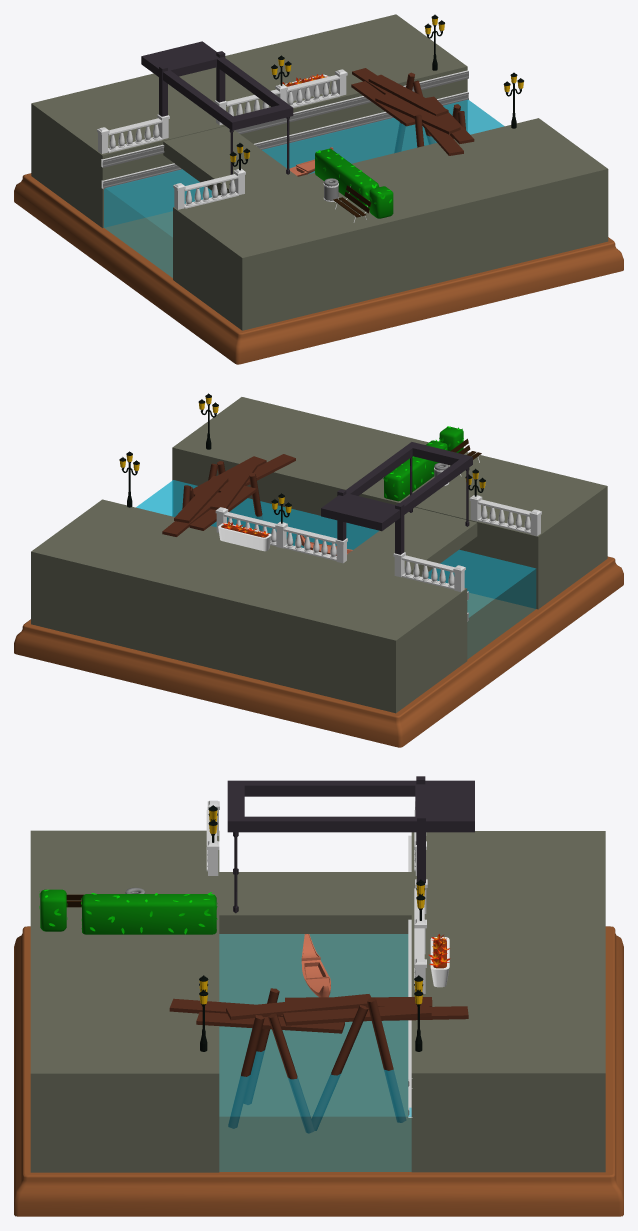
Rendered from Level5.FBX.
The picture shows the model from 3 angles, top to bottom: view 1: azimuth 30°, elevation 25°; view 2: azimuth 150°, elevation 25°; view 3: azimuth 270°, elevation 25°; orthographic projection. The views are drawn at different scales.
Visible parts, largest first — view 1: Box072, Box145, Box081, Box086, Box084, Box080, Box085; view 2: Box072, Box145, Box081, Box086, Box084, Box080, Box085; view 3: Box072, Box081, Box145, Box084, Box086, Cylinder094, Cylinder093, Box083, Cylinder095, Cylinder096, Cylinder092, Box085 (+1 smaller).
Boxes of the visible parts, <box> form: Box072: <box>14,14,623,364</box>; Box145: <box>141,41,293,130</box>; Box081: <box>163,126,297,195</box>; Box086: <box>368,74,448,116</box>; Box084: <box>375,94,460,134</box>; Box080: <box>351,81,414,126</box>; Box085: <box>422,122,463,155</box>; Box072: <box>14,393,623,747</box>; Box145: <box>321,442,472,531</box>; Box081: <box>347,507,477,576</box>; Box086: <box>174,475,228,523</box>; Box084: <box>210,463,257,509</box>; Box080: <box>189,485,256,530</box>; Box085: <box>218,454,295,492</box>; Box072: <box>14,776,623,1216</box>; Box081: <box>219,872,411,933</box>; Box145: <box>227,780,474,832</box>; Box084: <box>226,994,371,1020</box>; Box086: <box>283,1003,431,1025</box>; Cylinder094: <box>311,1005,368,1130</box>; Cylinder093: <box>367,997,406,1122</box>; Box083: <box>196,1012,344,1033</box>; Cylinder095: <box>268,1013,314,1133</box>; Cylinder096: <box>228,1015,264,1128</box>; Cylinder092: <box>243,988,279,1104</box>; Box085: <box>169,998,282,1016</box>.
Bounding box in the file's own units: 336 × 140 × 336.
